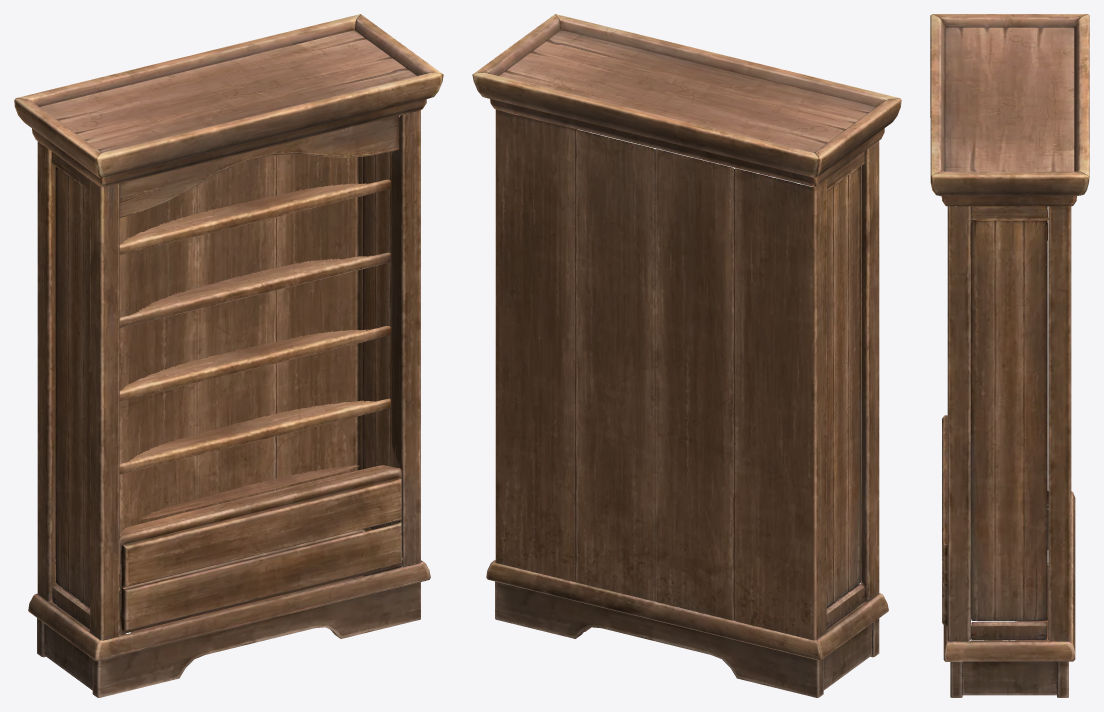
The picture shows the model from 3 angles, left to right: view 1: azimuth 30°, elevation 25°; view 2: azimuth 150°, elevation 25°; view 3: azimuth 270°, elevation 25°; orthographic projection. The views are drawn at different scales.
Visible parts, largest first — view 1: SM_Bookcase_01v2_LOD0; view 2: SM_Bookcase_01v2_LOD0; view 3: SM_Bookcase_01v2_LOD0.
Part boxes in pixels (x1,y1,x2,y2): SM_Bookcase_01v2_LOD0: (14,14,443,697); SM_Bookcase_01v2_LOD0: (472,14,901,697); SM_Bookcase_01v2_LOD0: (930,14,1089,697).
Size of the model in its own units: 1.5 by 2.26 by 0.6194.
Materials: 1 (1 with a texture image).
